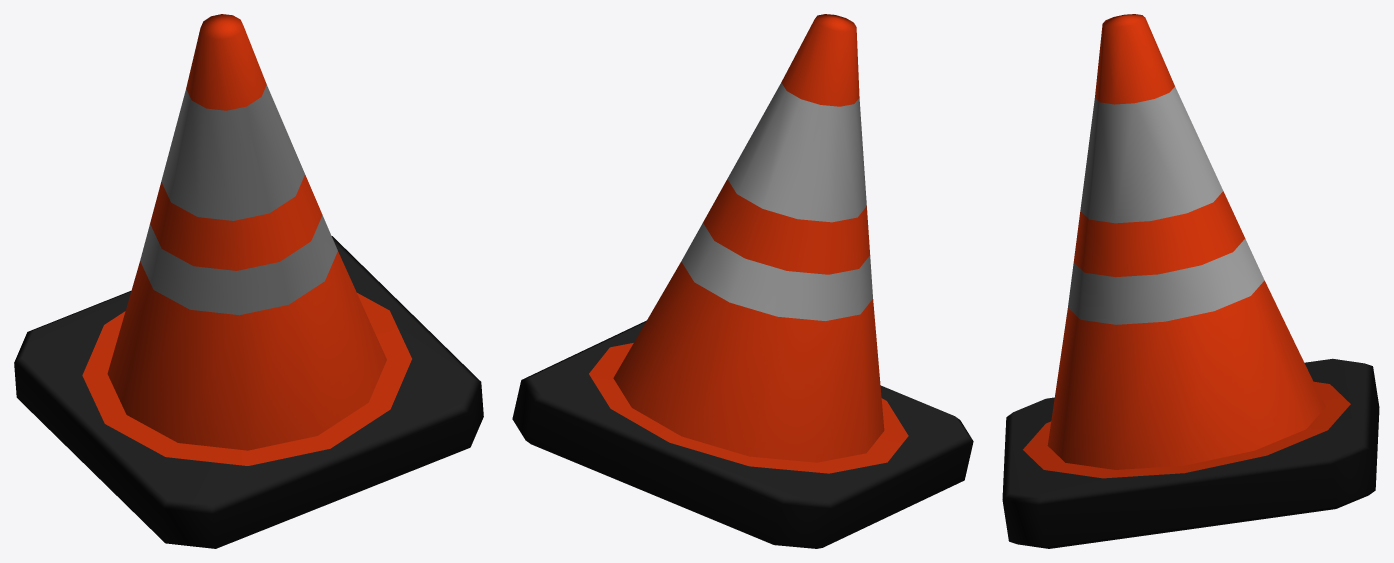
The model's file is hat_cone.glb.
3 views of the same model, side by side, from view 1: azimuth 30°, elevation 25°; view 2: azimuth 150°, elevation 25°; view 3: azimuth 270°, elevation 25° (orthographic).
Visible parts, largest first — view 1: hat_cone; view 2: hat_cone; view 3: hat_cone.
Part boxes in pixels (left/top/right/bottom): hat_cone: left=14, top=14, right=483, bottom=548; hat_cone: left=512, top=14, right=973, bottom=548; hat_cone: left=1002, top=14, right=1379, bottom=548.
Size of the model in its own units: 0.3132 by 0.437 by 0.314.
